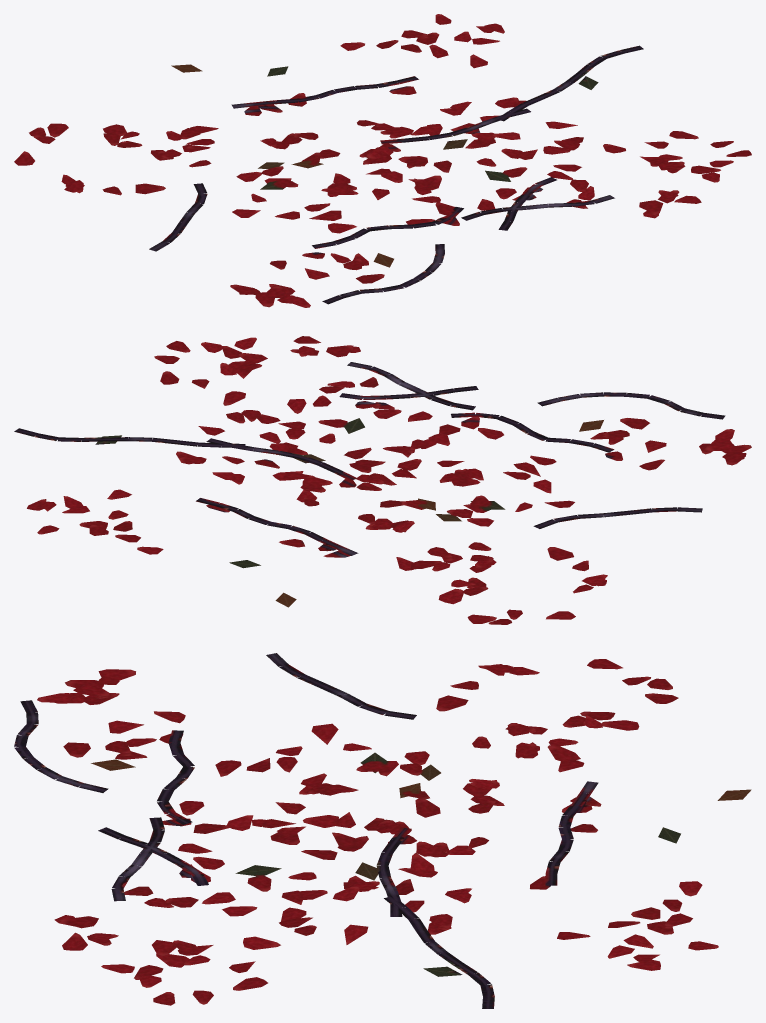
The model's file is decal_petals.glb.
3 renders of one model, top to bottom at view 1: azimuth 30°, elevation 25°; view 2: azimuth 150°, elevation 25°; view 3: azimuth 270°, elevation 25°, orthographic. The views are drawn at different scales.
Parts seen in each view (by area): view 1: decal_petals; view 2: decal_petals; view 3: decal_petals.
Boxes of the visible parts, box(x1,y1,x2,y2) form: decal_petals: box(14, 14, 751, 307); decal_petals: box(14, 336, 751, 624); decal_petals: box(14, 653, 751, 1008).
Bounding box in the file's own units: 1.36 × 0.0186 × 1.18.
Materials: 1 (1 with a texture image).
